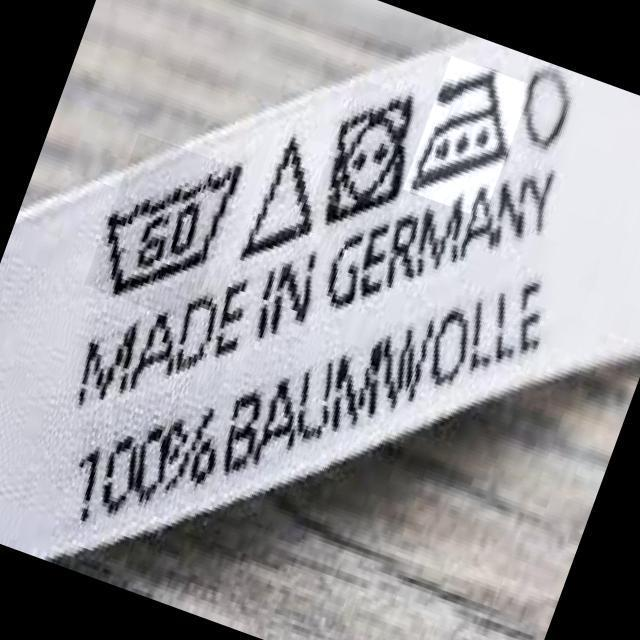60C: (91, 159, 245, 290)
bleach: (246, 132, 317, 260)
iron_high: (415, 65, 513, 191)
tumble_dry_medium: (326, 91, 413, 220)
